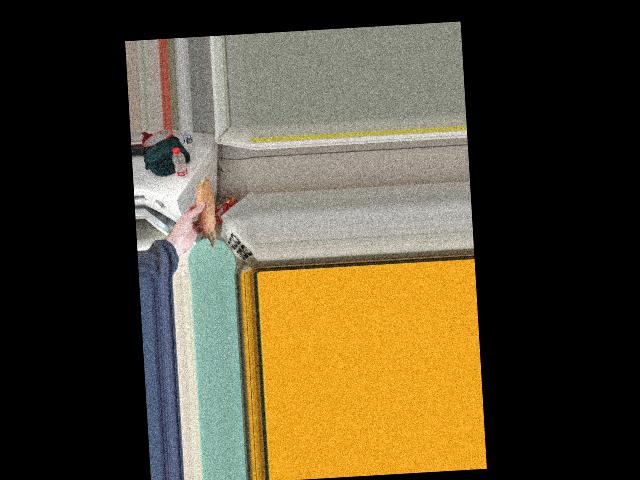sweet_potato: (191, 182, 218, 249)
